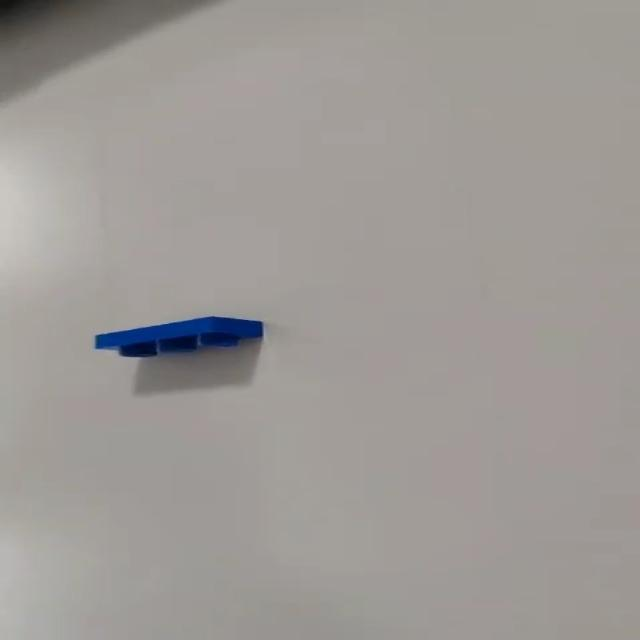C3x1x0: (87, 317, 263, 358)
